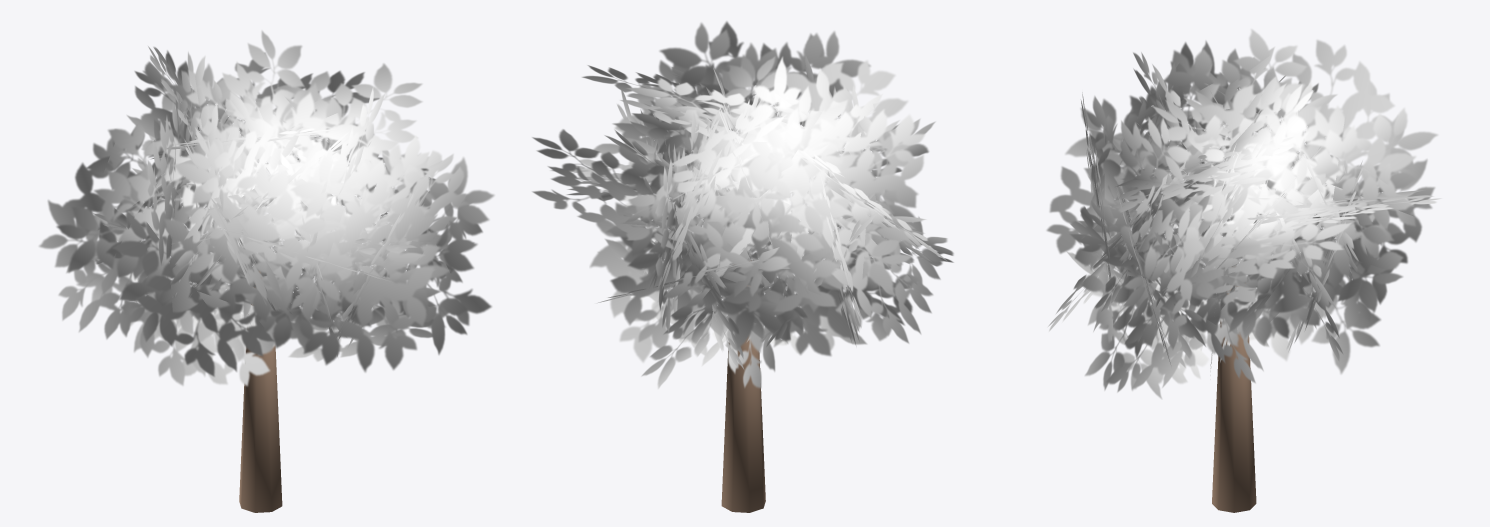
File: tree_stylized_1.glb
The picture shows the model from 3 angles, left to right: view 1: azimuth 30°, elevation 25°; view 2: azimuth 150°, elevation 25°; view 3: azimuth 270°, elevation 25°; orthographic projection. The views are drawn at different scales.
Visible parts, largest first — view 1: Canopy, Cone; view 2: Canopy, Cone; view 3: Canopy, Cone.
Part boxes in pixels (x1,y1,x2,y2): Canopy: (38, 30, 494, 386); Cone: (239, 271, 282, 512); Canopy: (532, 21, 953, 388); Cone: (721, 260, 765, 512); Canopy: (1046, 29, 1441, 399); Cone: (1212, 266, 1256, 512).
Size of the model in its own units: 5.79 by 6.04 by 5.38.
Materials: 2 (1 with a texture image).
